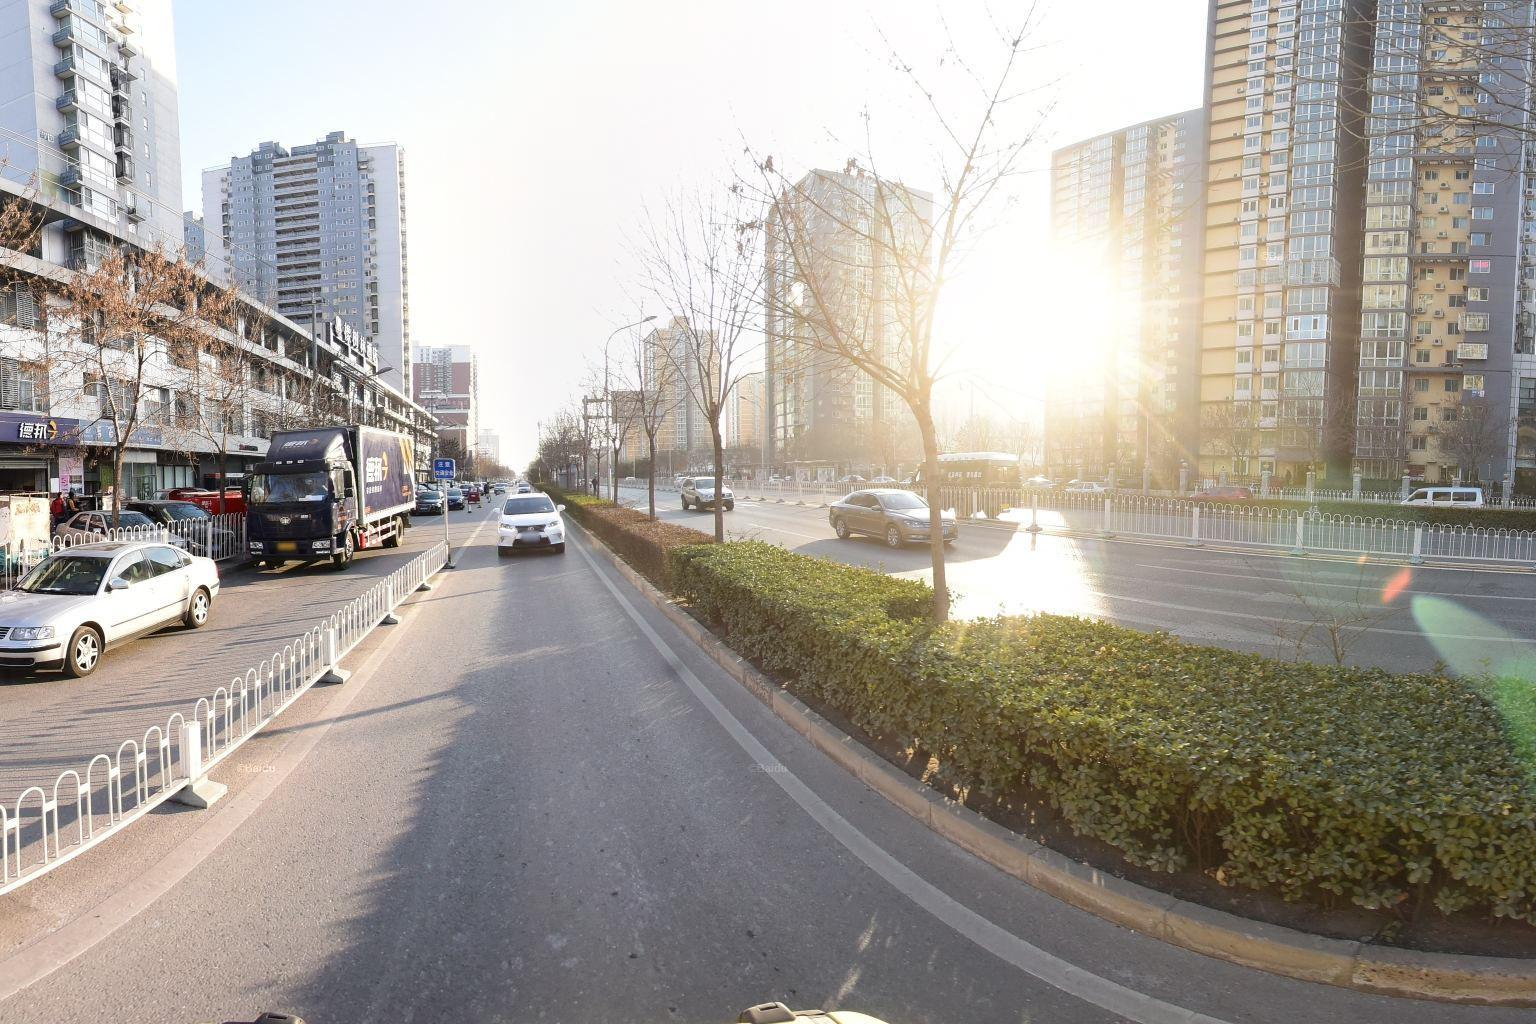trafficsign: (602, 386, 675, 427), (433, 455, 458, 481)
